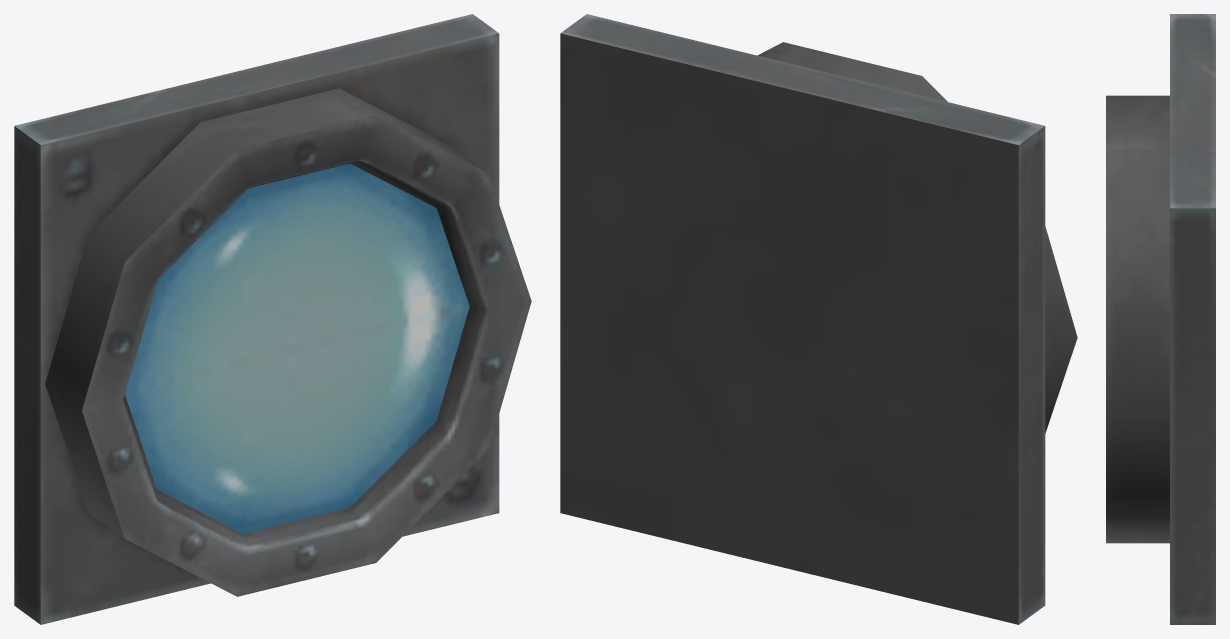
The model's file is circleWindow.obj.
The picture shows the model from 3 angles, left to right: view 1: azimuth 30°, elevation 25°; view 2: azimuth 150°, elevation 25°; view 3: azimuth 270°, elevation 25°; orthographic projection. The views are drawn at different scales.
Visible parts, largest first — view 1: circleWindow; view 2: circleWindow; view 3: circleWindow.
Boxes of the visible parts, x1,y1,x2,y2 form: circleWindow: [14, 14, 531, 624]; circleWindow: [560, 14, 1077, 624]; circleWindow: [1106, 14, 1215, 624].
Bounding box in the file's own units: 1 × 1 × 0.239.
1 material, 1 textured.
